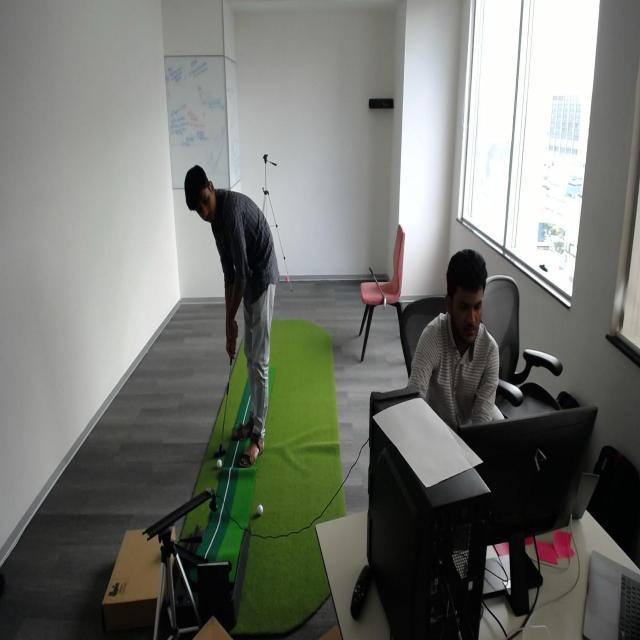GolfBall: (253, 502, 270, 521), (212, 455, 226, 472)
